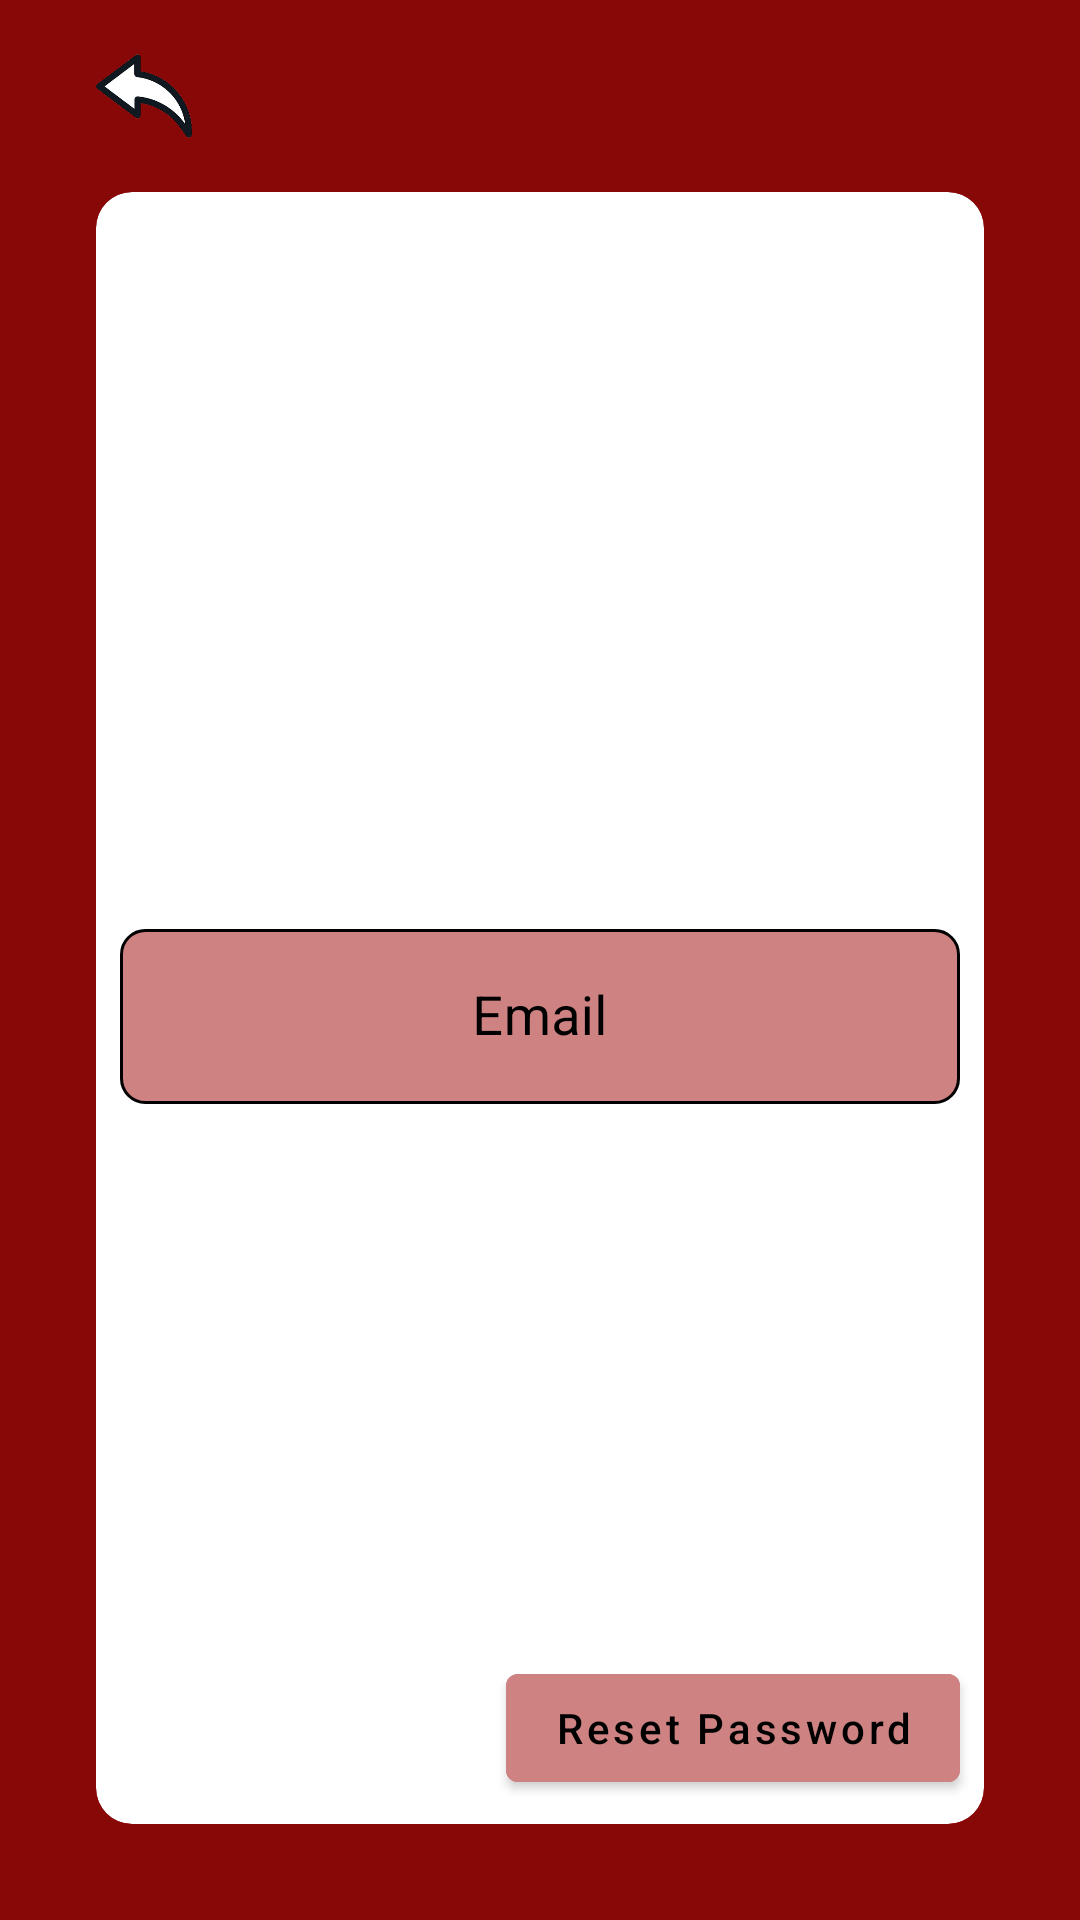

Named icons in this screenshot (1080x1920) and their bounding boxes, (x1, y1, x2, y2):
back: (96, 54, 192, 138)
